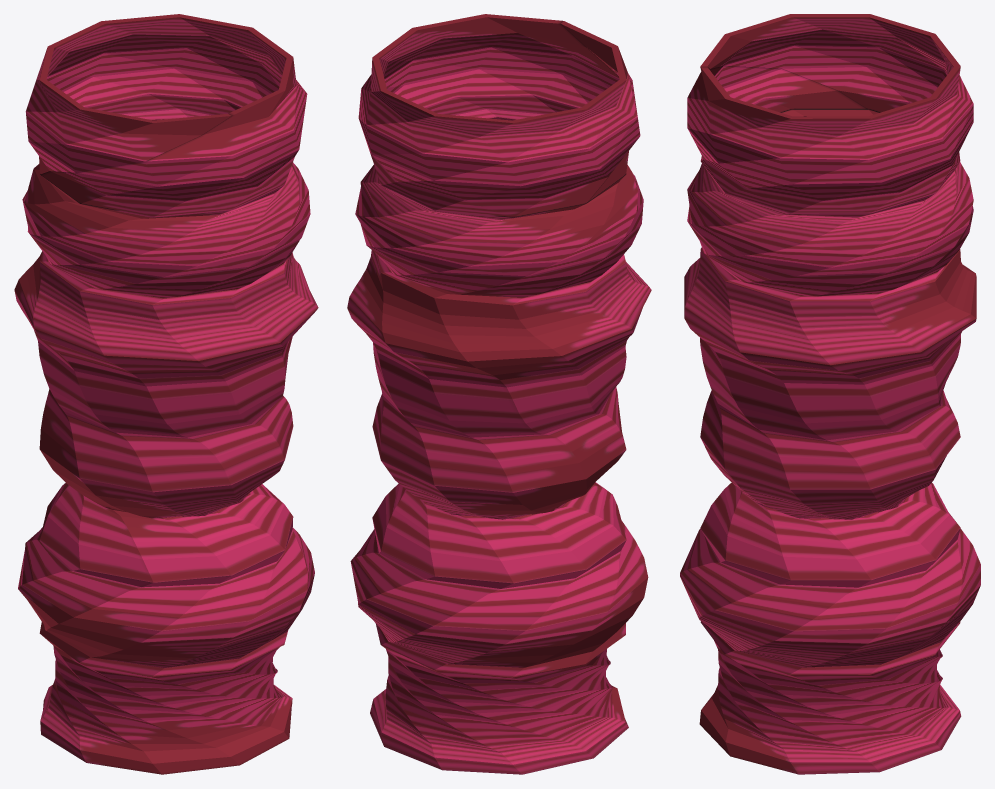
File: Differemtrotationparts 1.fbx
3 renders of one model, left to right at view 1: azimuth 30°, elevation 25°; view 2: azimuth 150°, elevation 25°; view 3: azimuth 270°, elevation 25°, orthographic.
Visible parts, largest first — view 1: first section; view 2: first section; view 3: first section.
Boxes of the visible parts, x1,y1,x2,y2 form: first section: (14, 14, 318, 774); first section: (347, 14, 651, 774); first section: (680, 14, 980, 774).
Bounding box in the file's own units: 755 × 740 × 1778.
